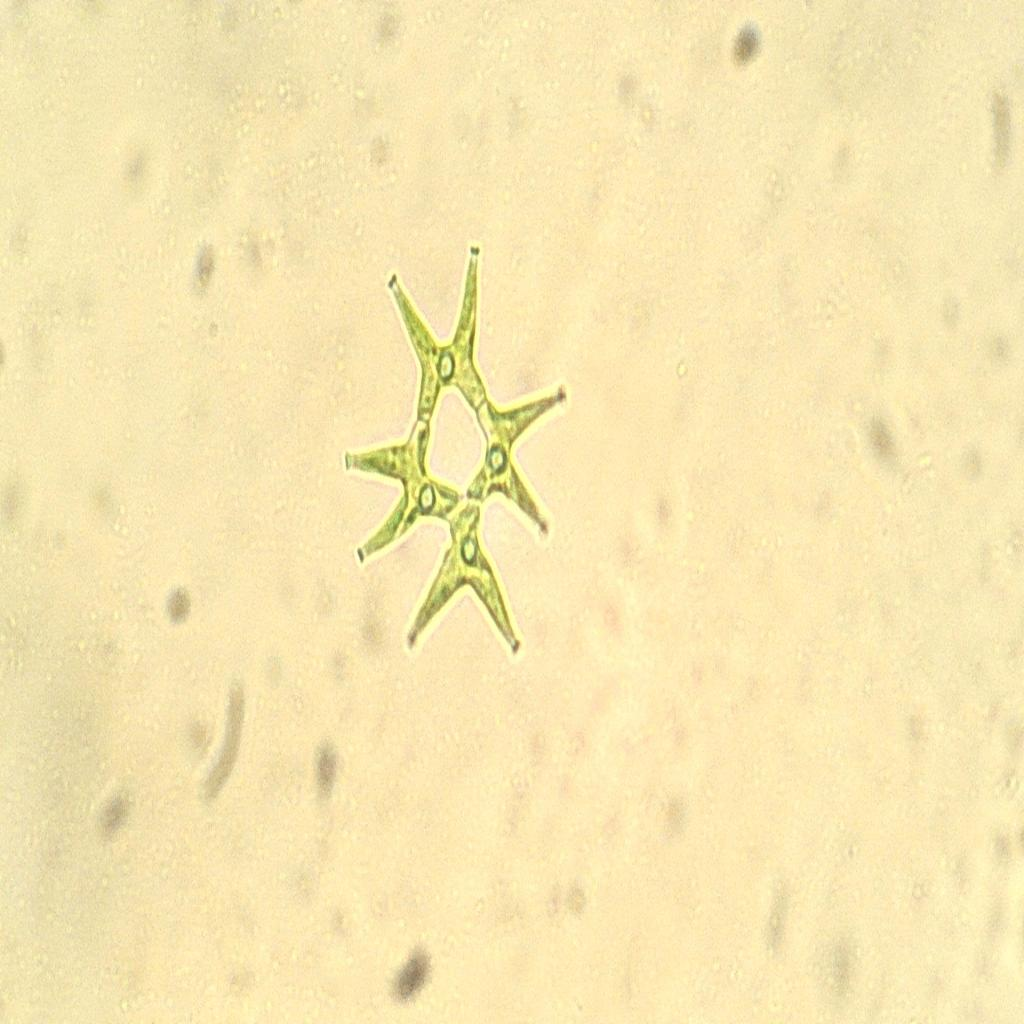Pediastrum_75FI: (336, 227, 569, 697)
